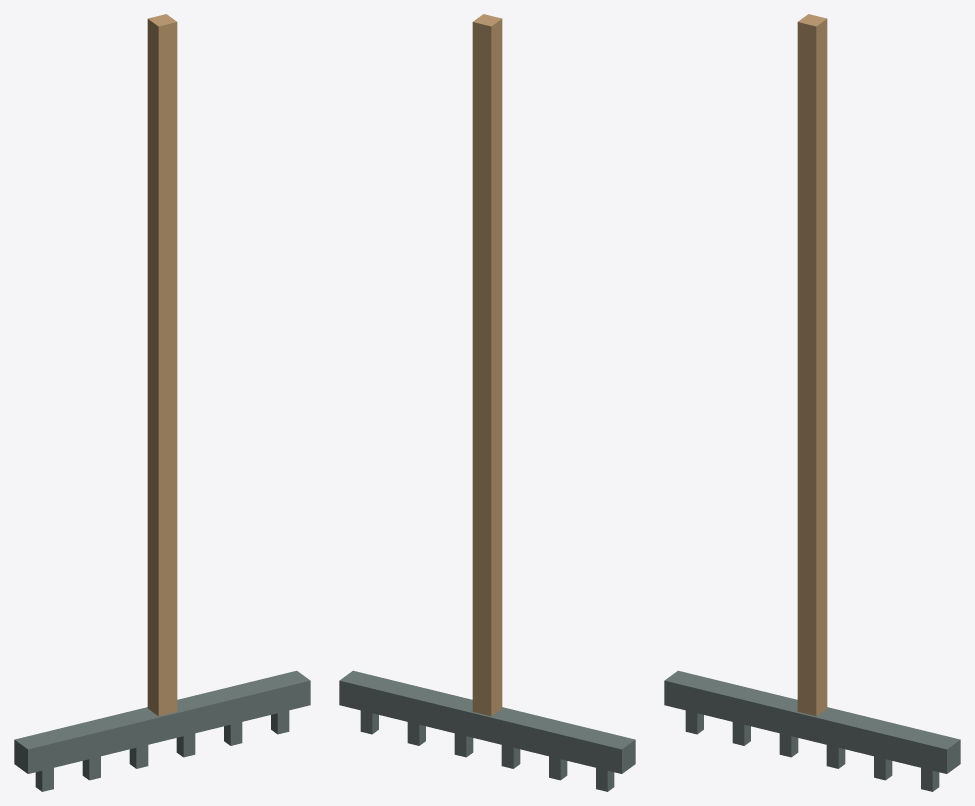
The model's file is cozy-farm-and-homestead-soil-rake-b8e4a9e5__19399.glb.
3 views of the same model, side by side, from view 1: azimuth 30°, elevation 25°; view 2: azimuth 150°, elevation 25°; view 3: azimuth 330°, elevation 25° (orthographic).
Parts seen in each view (by area): view 1: soil-rake; view 2: soil-rake; view 3: soil-rake.
Boxes of the visible parts, bbox=[...] form: soil-rake: bbox=[14, 14, 310, 791]; soil-rake: bbox=[339, 14, 635, 791]; soil-rake: bbox=[664, 14, 960, 791].
Size of the model in its own units: 0.6 by 1.5 by 0.05.
